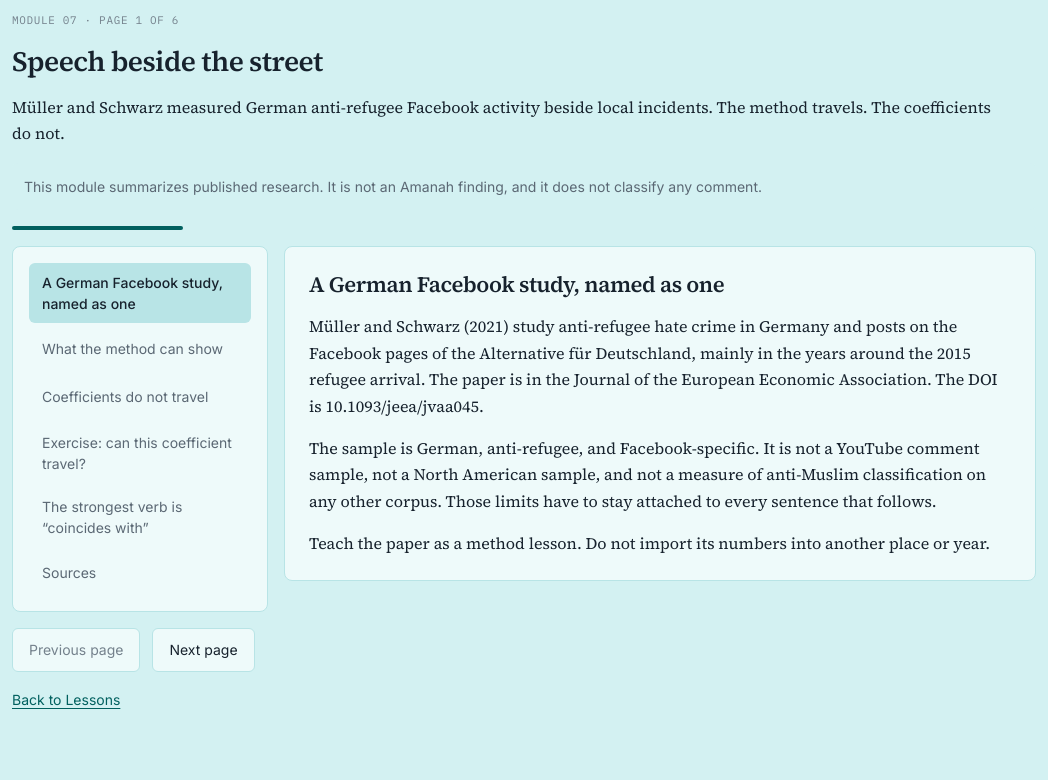
Test: LessonReaderPage › asks whether a German Facebook coefficient can be imported
The width and height of the screenshot is (1048, 780).
Click the button "Exercise: can this coefficient travel?" at [140, 453], box [29,423,251,483]
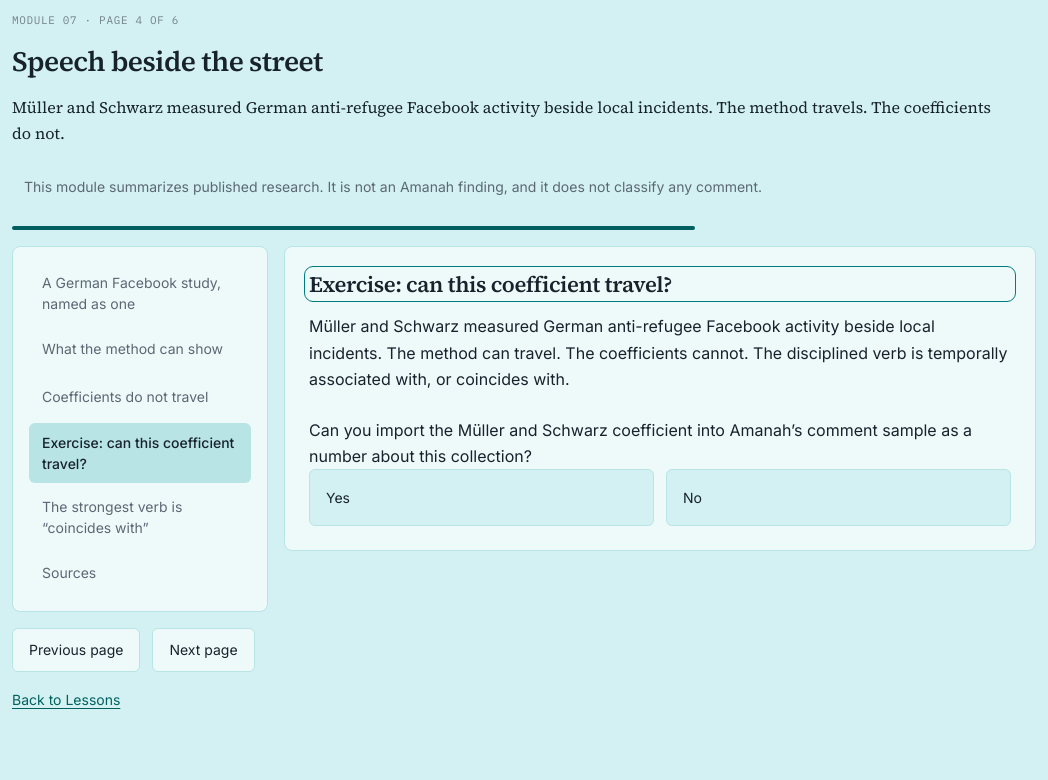
Expected: the button "No" is shown, [666,469,1011,526]
Expected: the button "Yes" is shown, [309,469,654,526]
